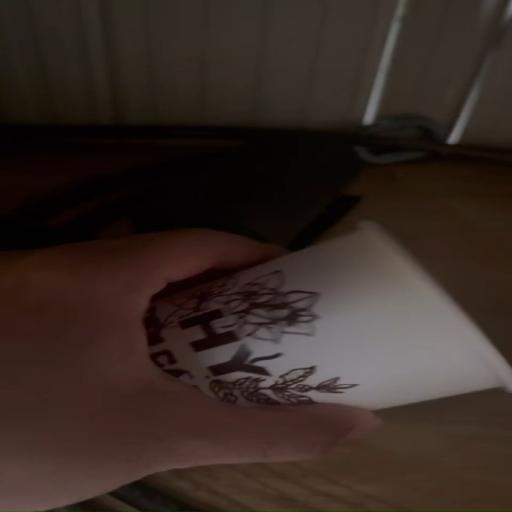Ly_giay: (145, 223, 511, 409)
